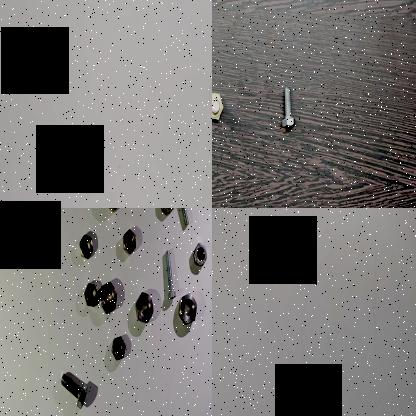Bolts: (56, 369, 90, 411), (278, 82, 298, 130), (163, 246, 176, 304), (169, 208, 191, 231), (212, 85, 224, 123)
NUTS: (97, 278, 119, 312), (177, 292, 197, 326), (132, 290, 152, 322), (107, 333, 128, 361), (38, 228, 55, 262), (191, 240, 209, 272), (76, 230, 94, 260), (82, 278, 99, 309), (119, 226, 137, 254), (14, 208, 38, 221), (161, 208, 175, 218)
